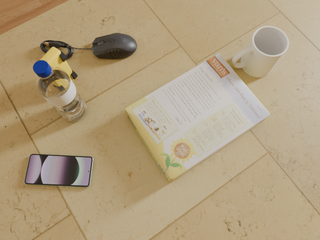bottle: (33, 60, 87, 122)
box: (125, 53, 270, 182)
cup: (232, 26, 289, 77)
mouse: (90, 33, 137, 59)
phone: (24, 154, 93, 187)
toy_car: (40, 47, 78, 82)
